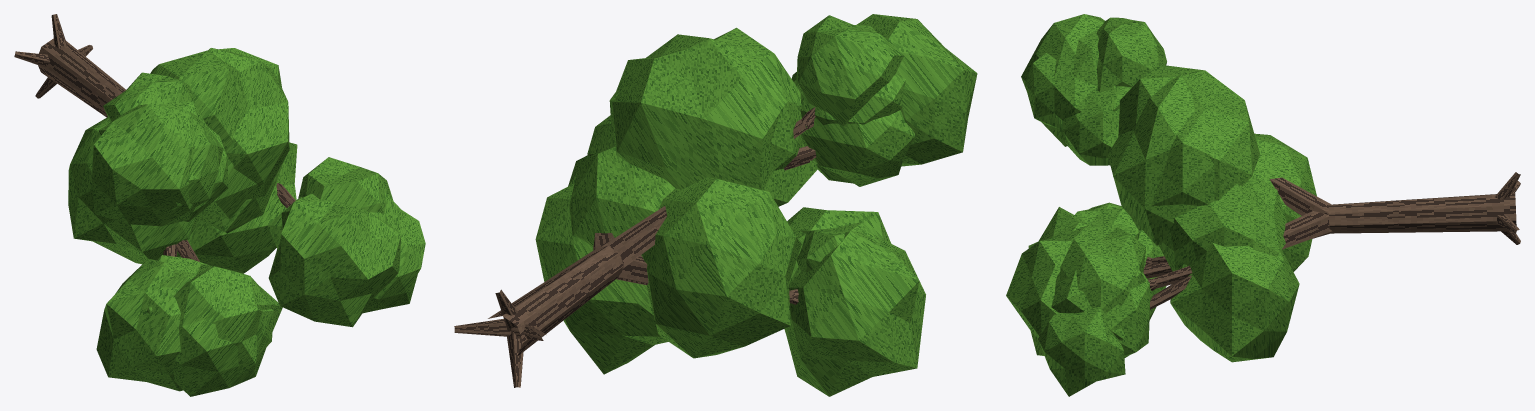
File: maple_tree.glb
3 renders of one model, left to right at view 1: azimuth 30°, elevation 25°; view 2: azimuth 150°, elevation 25°; view 3: azimuth 270°, elevation 25°, orthographic. The views are drawn at different scales.
Parts seen in each view (by area): view 1: leaves, bark; view 2: leaves, bark; view 3: leaves, bark.
Boxes of the visible parts, x1=… form: leaves: x1=68, y1=48, x2=425, y2=396; bark: x1=14, y1=14, x2=295, y2=261; leaves: x1=535, y1=14, x2=977, y2=396; bark: x1=454, y1=107, x2=816, y2=387; leaves: x1=1006, y1=14, x2=1316, y2=396; bark: x1=1143, y1=172, x2=1520, y2=309.
Size of the model in its own units: 7.49 by 6.63 by 10.09.
2 materials, 2 textured.
